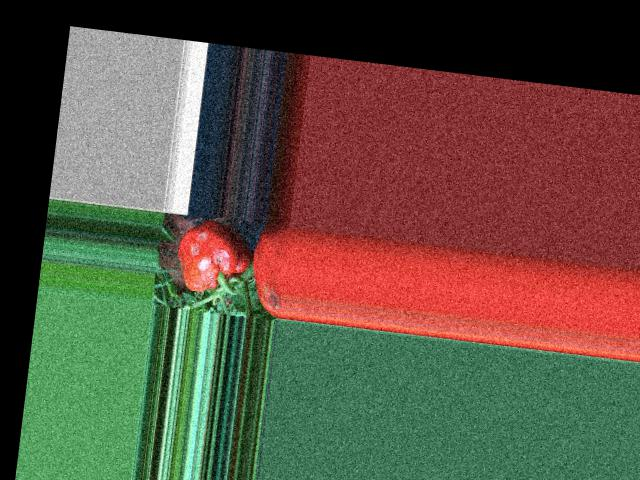bell_pepper: (176, 213, 254, 304)
